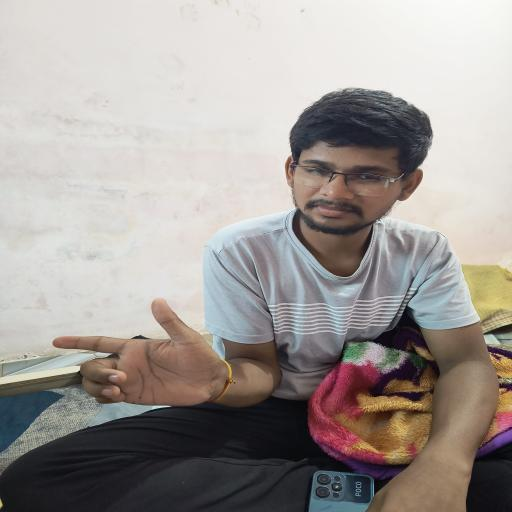Sorry: (38, 293, 258, 420)
